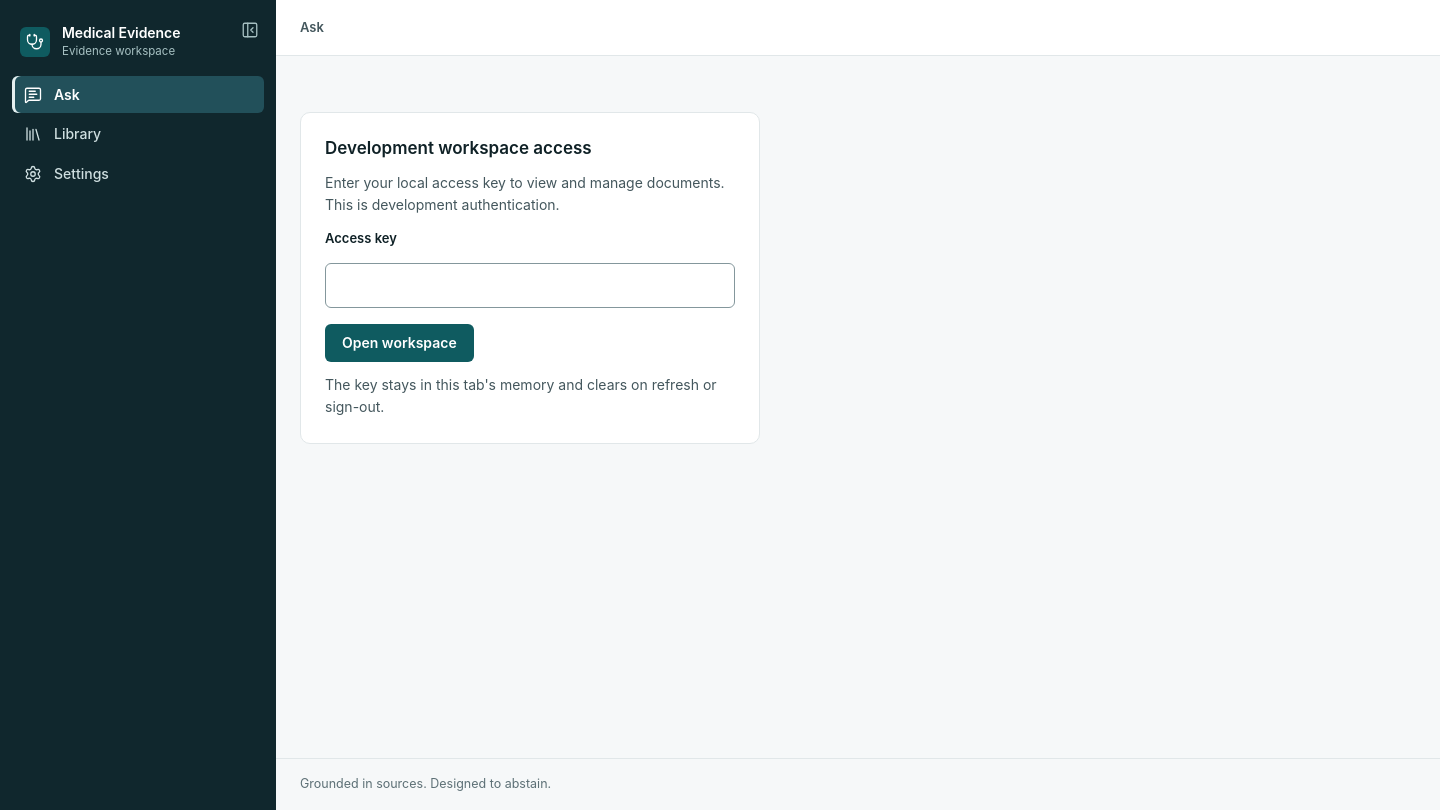
it: what the rail lists › puts the everyday pages first and folds engineering tools away
This screenshot has width=1440, height=810.
Type "test-key" into the password field labelled "Access key" at (530, 285), box left=325, top=263, right=735, bottom=308
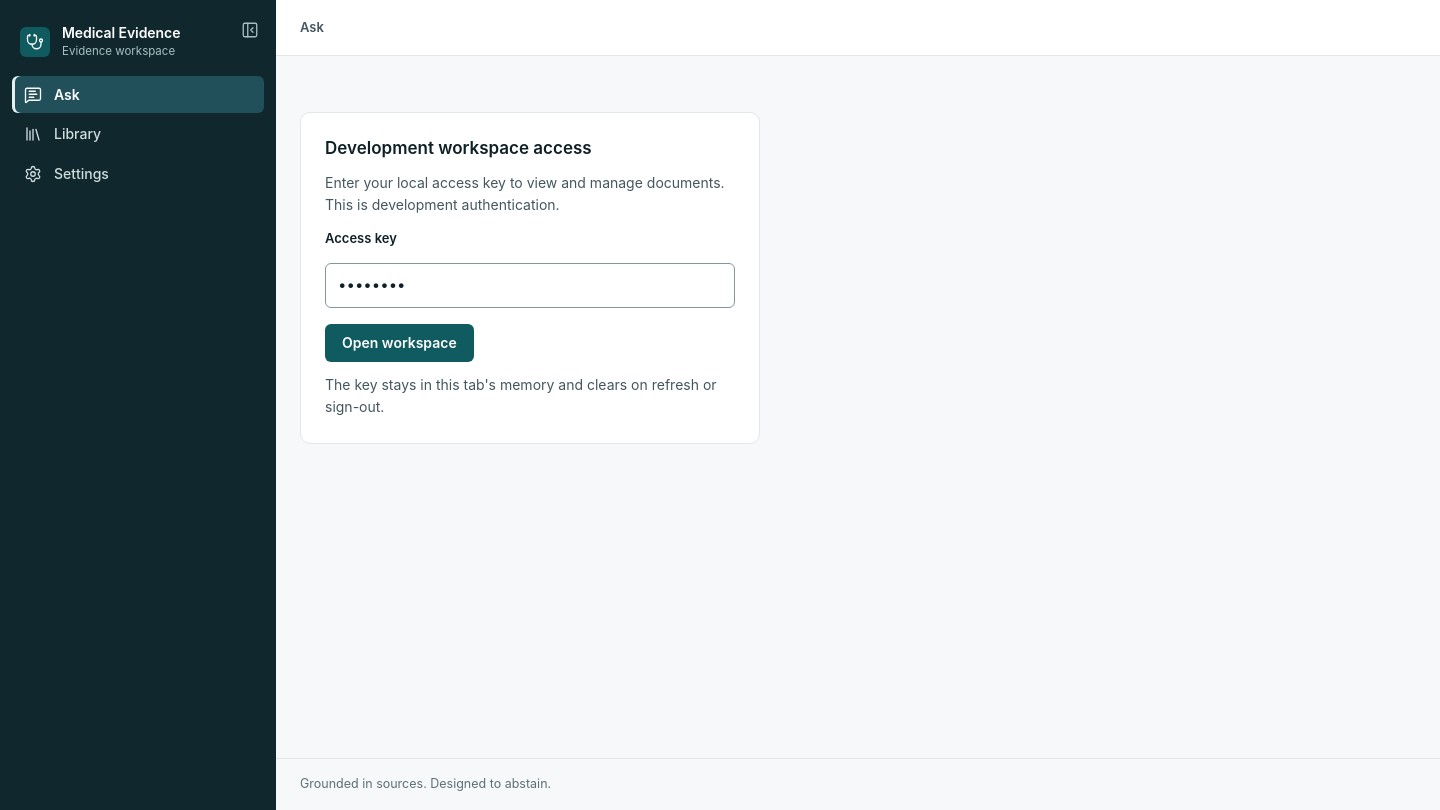
Click the button "Open workspace" at (399, 343), box left=325, top=324, right=474, bottom=362
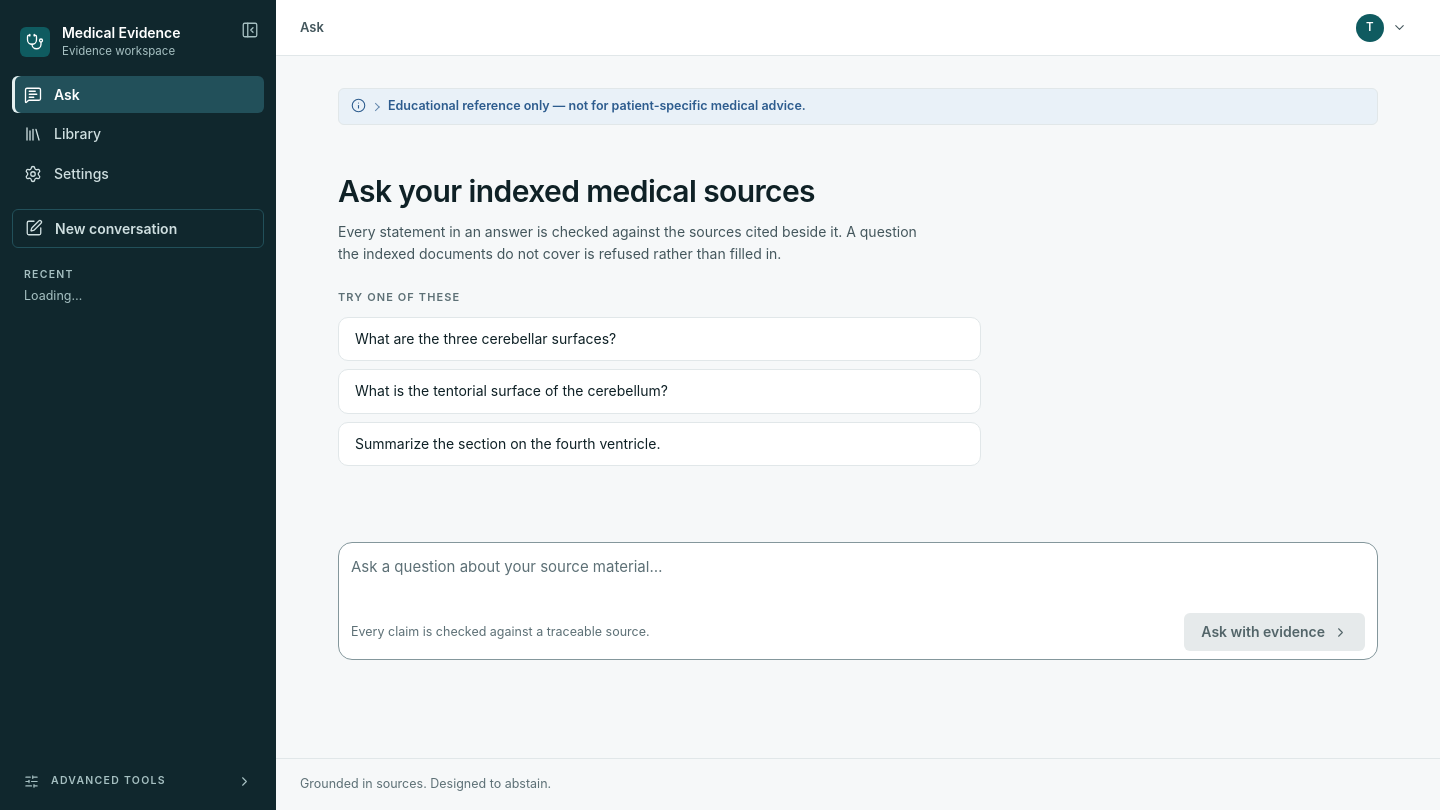
Expected: the link "Ask" is shown, left=12, top=76, right=264, bottom=113
Expected: the text box named "Your educational medical question" is shown, left=351, top=555, right=1365, bottom=605
Click the button "Advanced tools" at (138, 782), box left=12, top=765, right=264, bottom=798
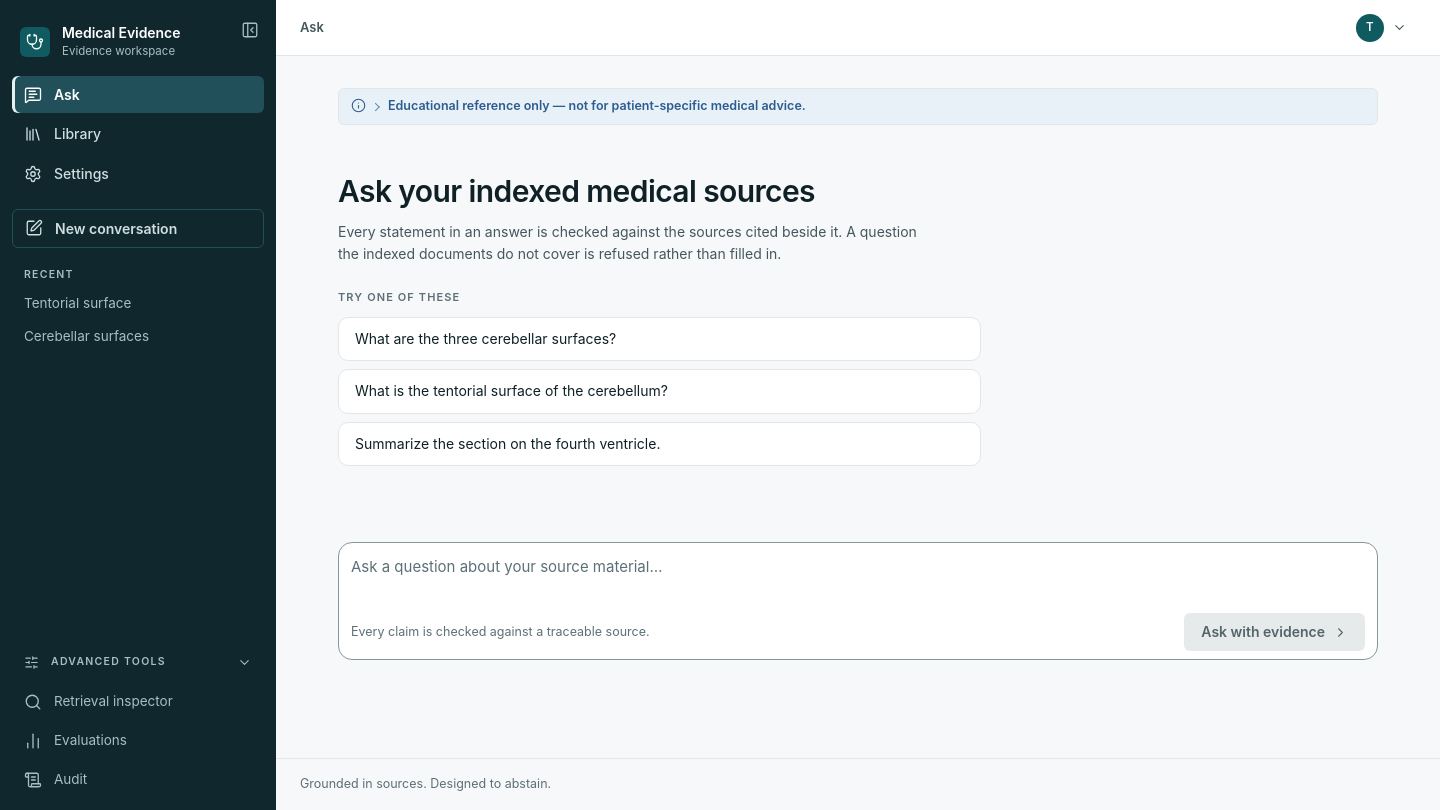
Expected: the link "Retrieval inspector" is shown, left=24, top=693, right=173, bottom=711
Expected: the link "Audit" is shown, left=24, top=770, right=87, bottom=788
